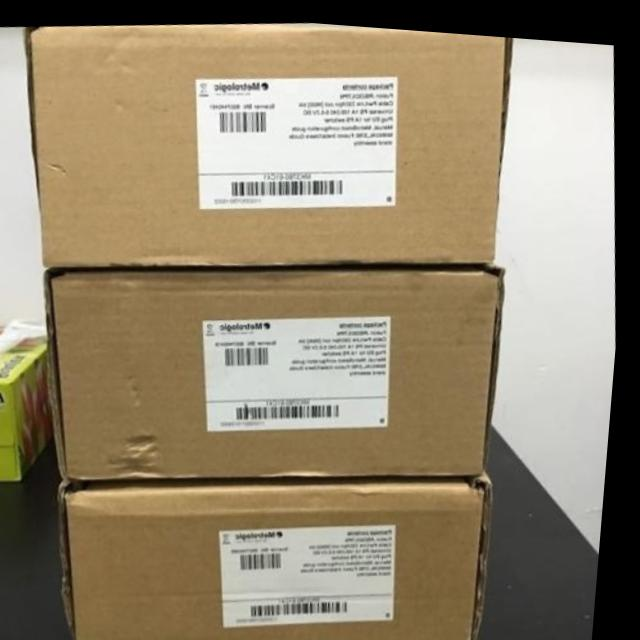box: (24, 20, 513, 266), (47, 255, 509, 477), (66, 463, 500, 640)
